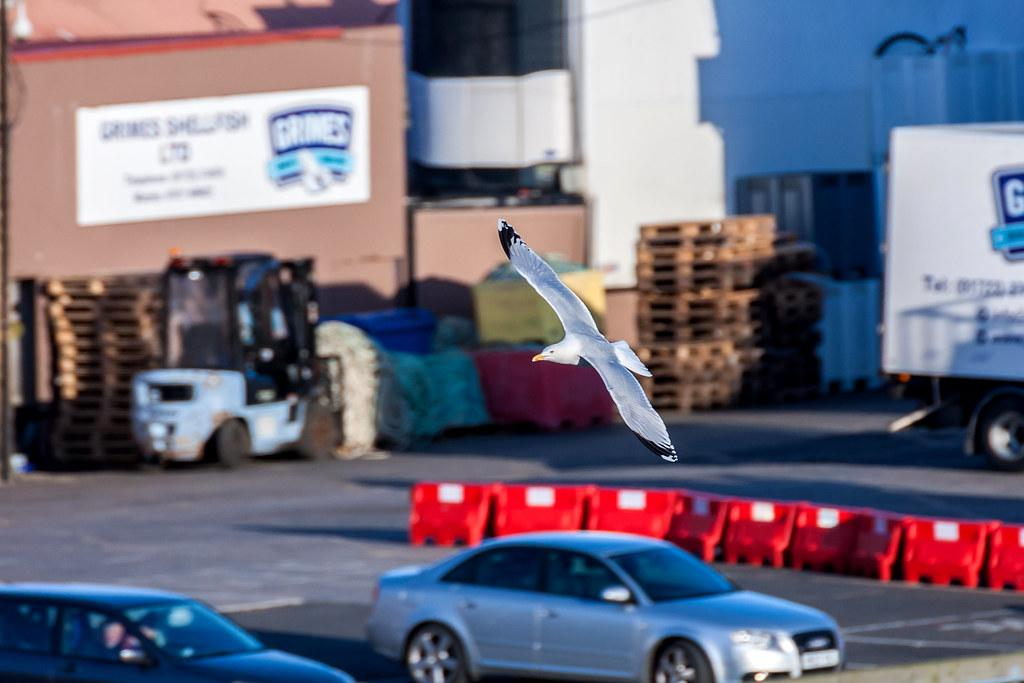car: (365, 530, 846, 683), (1, 582, 357, 683)
